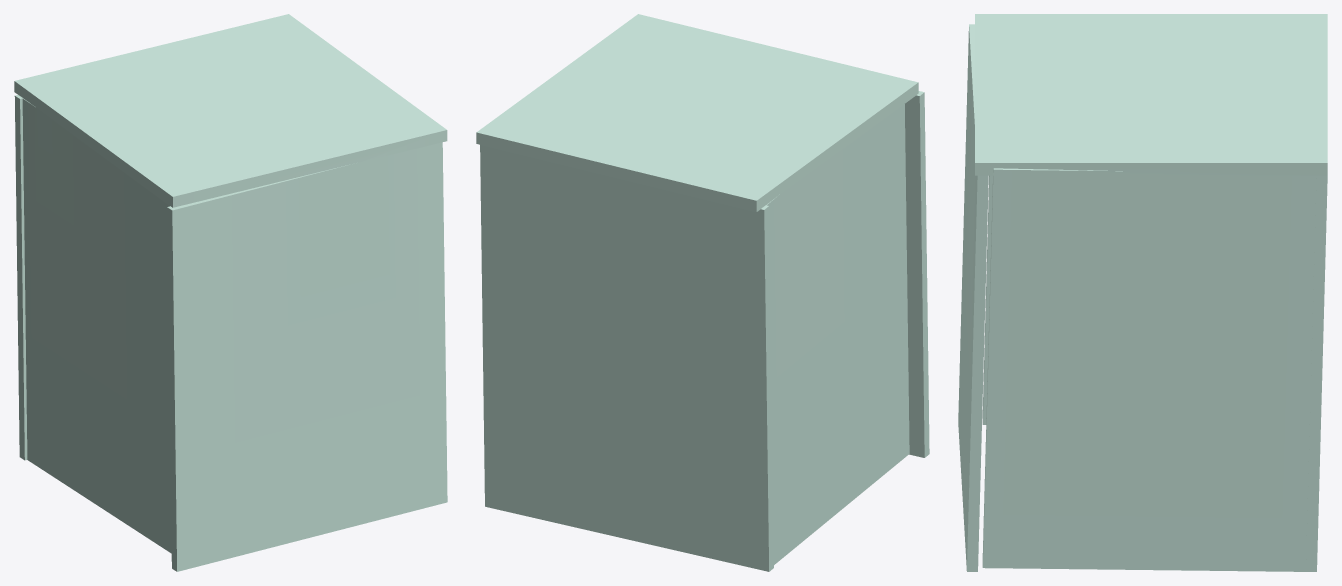
The picture shows the model from 3 angles, left to right: view 1: azimuth 30°, elevation 25°; view 2: azimuth 150°, elevation 25°; view 3: azimuth 270°, elevation 25°; orthographic projection. The views are drawn at different scales.
Parts seen in each view (by area): view 1: Renderer Node; view 2: Renderer Node; view 3: Renderer Node.
Part boxes in pixels (left/top/right/bottom): Renderer Node: left=14, top=14, right=447, bottom=571; Renderer Node: left=476, top=14, right=929, bottom=571; Renderer Node: left=958, top=14, right=1327, bottom=571.
Size of the model in its own units: 0.615 by 0.7732 by 0.6303.
